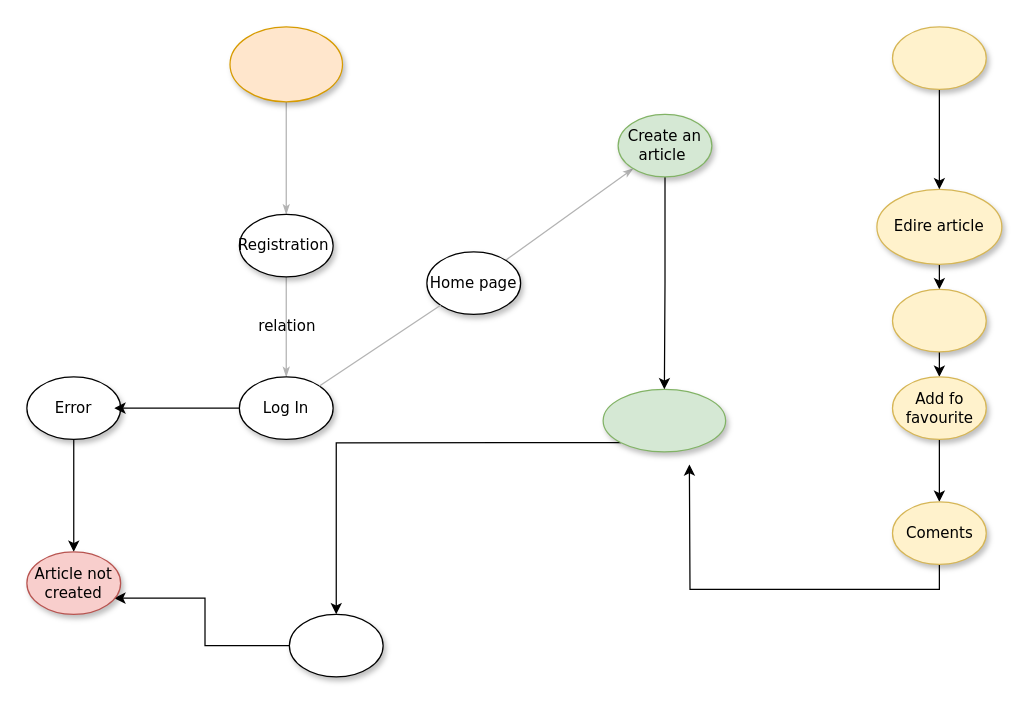
The diagram is 1034 pixels wide and 708 high, and some of its shapes have lost their labels. The shapes that lost their labels are listed below. From the top down, each one's centre as x and y in pixels, then its label:
At [287,66]: "User doeshave account".
At [940,59]: "Like".
At [940,322]: "Add coments".
At [665,422]: "Publishe article".
At [337,647]: "Delete".
